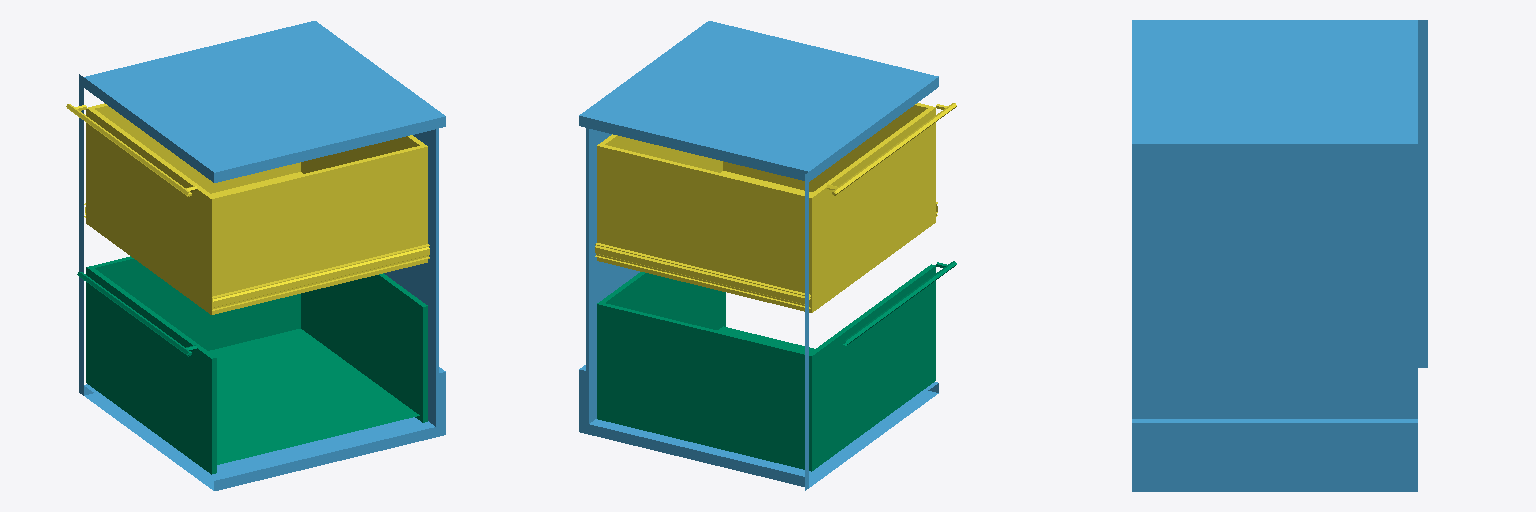
URDF robot description (partnet_9633dbd1bb8c11134c3aee8e9d3a6ffa):
<?xml version="1.0" ?>
<robot name="partnet_9633dbd1bb8c11134c3aee8e9d3a6ffa">
	<link name="base"/>
	<link name="link_0">
		<visual name="vertical_side_panel-23">
			<origin xyz="0 0 0"/>
			<geometry>
				<mesh filename="textured_objs/original-7.obj"/>
			</geometry>
		</visual>
		<visual name="vertical_side_panel-23">
			<origin xyz="0 0 0"/>
			<geometry>
				<mesh filename="textured_objs/original-6.obj"/>
			</geometry>
		</visual>
		<visual name="vertical_side_panel-24">
			<origin xyz="0 0 0"/>
			<geometry>
				<mesh filename="textured_objs/original-4.obj"/>
			</geometry>
		</visual>
		<visual name="vertical_side_panel-24">
			<origin xyz="0 0 0"/>
			<geometry>
				<mesh filename="textured_objs/original-3.obj"/>
			</geometry>
		</visual>
		<visual name="back_panel-25">
			<origin xyz="0 0 0"/>
			<geometry>
				<mesh filename="textured_objs/original-15.obj"/>
			</geometry>
		</visual>
		<visual name="bottom_panel-26">
			<origin xyz="0 0 0"/>
			<geometry>
				<mesh filename="textured_objs/original-10.obj"/>
			</geometry>
		</visual>
		<visual name="bottom_panel-26">
			<origin xyz="0 0 0"/>
			<geometry>
				<mesh filename="textured_objs/original-9.obj"/>
			</geometry>
		</visual>
		<visual name="top_panel-27">
			<origin xyz="0 0 0"/>
			<geometry>
				<mesh filename="textured_objs/original-13.obj"/>
			</geometry>
		</visual>
		<visual name="top_panel-27">
			<origin xyz="0 0 0"/>
			<geometry>
				<mesh filename="textured_objs/original-12.obj"/>
			</geometry>
		</visual>
		<visual name="frame_horizontal_bar-28">
			<origin xyz="0 0 0"/>
			<geometry>
				<mesh filename="textured_objs/original-16.obj"/>
			</geometry>
		</visual>
		<visual name="frame_horizontal_bar-29">
			<origin xyz="0 0 0"/>
			<geometry>
				<mesh filename="textured_objs/original-14.obj"/>
			</geometry>
		</visual>
		<collision>
			<origin xyz="0 0 0"/>
			<geometry>
				<mesh filename="textured_objs/original-7.obj"/>
			</geometry>
		</collision>
		<collision>
			<origin xyz="0 0 0"/>
			<geometry>
				<mesh filename="textured_objs/original-6.obj"/>
			</geometry>
		</collision>
		<collision>
			<origin xyz="0 0 0"/>
			<geometry>
				<mesh filename="textured_objs/original-4.obj"/>
			</geometry>
		</collision>
		<collision>
			<origin xyz="0 0 0"/>
			<geometry>
				<mesh filename="textured_objs/original-3.obj"/>
			</geometry>
		</collision>
		<collision>
			<origin xyz="0 0 0"/>
			<geometry>
				<mesh filename="textured_objs/original-15.obj"/>
			</geometry>
		</collision>
		<collision>
			<origin xyz="0 0 0"/>
			<geometry>
				<mesh filename="textured_objs/original-10.obj"/>
			</geometry>
		</collision>
		<collision>
			<origin xyz="0 0 0"/>
			<geometry>
				<mesh filename="textured_objs/original-9.obj"/>
			</geometry>
		</collision>
		<collision>
			<origin xyz="0 0 0"/>
			<geometry>
				<mesh filename="textured_objs/original-13.obj"/>
			</geometry>
		</collision>
		<collision>
			<origin xyz="0 0 0"/>
			<geometry>
				<mesh filename="textured_objs/original-12.obj"/>
			</geometry>
		</collision>
		<collision>
			<origin xyz="0 0 0"/>
			<geometry>
				<mesh filename="textured_objs/original-16.obj"/>
			</geometry>
		</collision>
		<collision>
			<origin xyz="0 0 0"/>
			<geometry>
				<mesh filename="textured_objs/original-14.obj"/>
			</geometry>
		</collision>
	</link>
	<joint name="joint_0" type="fixed">
		<origin rpy="1.570796326794897 0 -1.570796326794897" xyz="0 0 0"/>
		<child link="link_0"/>
		<parent link="base"/>
	</joint>
	<link name="link_1">
		<visual name="drawer_front-14">
			<origin xyz="0 0 0"/>
			<geometry>
				<mesh filename="textured_objs/original-18.obj"/>
			</geometry>
		</visual>
		<visual name="drawer_front-14">
			<origin xyz="0 0 0"/>
			<geometry>
				<mesh filename="textured_objs/original-25.obj"/>
			</geometry>
		</visual>
		<visual name="drawer_side-15">
			<origin xyz="0 0 0"/>
			<geometry>
				<mesh filename="textured_objs/original-23.obj"/>
			</geometry>
		</visual>
		<visual name="drawer_side-16">
			<origin xyz="0 0 0"/>
			<geometry>
				<mesh filename="textured_objs/original-24.obj"/>
			</geometry>
		</visual>
		<visual name="drawer_back-17">
			<origin xyz="0 0 0"/>
			<geometry>
				<mesh filename="textured_objs/original-26.obj"/>
			</geometry>
		</visual>
		<visual name="drawer_bottom-18">
			<origin xyz="0 0 0"/>
			<geometry>
				<mesh filename="textured_objs/original-21.obj"/>
			</geometry>
		</visual>
		<visual name="drawer_bottom-18">
			<origin xyz="0 0 0"/>
			<geometry>
				<mesh filename="textured_objs/original-22.obj"/>
			</geometry>
		</visual>
		<visual name="handle-13">
			<origin xyz="0 0 0"/>
			<geometry>
				<mesh filename="textured_objs/original-30.obj"/>
			</geometry>
		</visual>
		<visual name="handle-13">
			<origin xyz="0 0 0"/>
			<geometry>
				<mesh filename="textured_objs/original-31.obj"/>
			</geometry>
		</visual>
		<visual name="handle-13">
			<origin xyz="0 0 0"/>
			<geometry>
				<mesh filename="textured_objs/original-32.obj"/>
			</geometry>
		</visual>
		<visual name="drawer_rails-19">
			<origin xyz="0 0 0"/>
			<geometry>
				<mesh filename="textured_objs/original-27.obj"/>
			</geometry>
		</visual>
		<visual name="drawer_rails-20">
			<origin xyz="0 0 0"/>
			<geometry>
				<mesh filename="textured_objs/original-28.obj"/>
			</geometry>
		</visual>
		<collision>
			<origin xyz="0 0 0"/>
			<geometry>
				<mesh filename="textured_objs/original-18.obj"/>
			</geometry>
		</collision>
		<collision>
			<origin xyz="0 0 0"/>
			<geometry>
				<mesh filename="textured_objs/original-25.obj"/>
			</geometry>
		</collision>
		<collision>
			<origin xyz="0 0 0"/>
			<geometry>
				<mesh filename="textured_objs/original-23.obj"/>
			</geometry>
		</collision>
		<collision>
			<origin xyz="0 0 0"/>
			<geometry>
				<mesh filename="textured_objs/original-24.obj"/>
			</geometry>
		</collision>
		<collision>
			<origin xyz="0 0 0"/>
			<geometry>
				<mesh filename="textured_objs/original-26.obj"/>
			</geometry>
		</collision>
		<collision>
			<origin xyz="0 0 0"/>
			<geometry>
				<mesh filename="textured_objs/original-21.obj"/>
			</geometry>
		</collision>
		<collision>
			<origin xyz="0 0 0"/>
			<geometry>
				<mesh filename="textured_objs/original-22.obj"/>
			</geometry>
		</collision>
		<collision>
			<origin xyz="0 0 0"/>
			<geometry>
				<mesh filename="textured_objs/original-30.obj"/>
			</geometry>
		</collision>
		<collision>
			<origin xyz="0 0 0"/>
			<geometry>
				<mesh filename="textured_objs/original-31.obj"/>
			</geometry>
		</collision>
		<collision>
			<origin xyz="0 0 0"/>
			<geometry>
				<mesh filename="textured_objs/original-32.obj"/>
			</geometry>
		</collision>
		<collision>
			<origin xyz="0 0 0"/>
			<geometry>
				<mesh filename="textured_objs/original-27.obj"/>
			</geometry>
		</collision>
		<collision>
			<origin xyz="0 0 0"/>
			<geometry>
				<mesh filename="textured_objs/original-28.obj"/>
			</geometry>
		</collision>
	</link>
	<joint name="joint_1" type="prismatic">
		<origin xyz="0 0 0"/>
		<axis xyz="0 0 1"/>
		<child link="link_1"/>
		<parent link="link_0"/>
		<limit lower="0" upper="0.88"/>
	</joint>
	<link name="link_2">
		<visual name="drawer_front-7">
			<origin xyz="0 0 0"/>
			<geometry>
				<mesh filename="textured_objs/original-41.obj"/>
			</geometry>
		</visual>
		<visual name="drawer_front-7">
			<origin xyz="0 0 0"/>
			<geometry>
				<mesh filename="textured_objs/original-34.obj"/>
			</geometry>
		</visual>
		<visual name="drawer_side-8">
			<origin xyz="0 0 0"/>
			<geometry>
				<mesh filename="textured_objs/original-39.obj"/>
			</geometry>
		</visual>
		<visual name="drawer_side-9">
			<origin xyz="0 0 0"/>
			<geometry>
				<mesh filename="textured_objs/original-40.obj"/>
			</geometry>
		</visual>
		<visual name="drawer_back-10">
			<origin xyz="0 0 0"/>
			<geometry>
				<mesh filename="textured_objs/original-42.obj"/>
			</geometry>
		</visual>
		<visual name="drawer_bottom-11">
			<origin xyz="0 0 0"/>
			<geometry>
				<mesh filename="textured_objs/original-38.obj"/>
			</geometry>
		</visual>
		<visual name="drawer_bottom-11">
			<origin xyz="0 0 0"/>
			<geometry>
				<mesh filename="textured_objs/original-37.obj"/>
			</geometry>
		</visual>
		<visual name="handle-6">
			<origin xyz="0 0 0"/>
			<geometry>
				<mesh filename="textured_objs/original-46.obj"/>
			</geometry>
		</visual>
		<visual name="handle-6">
			<origin xyz="0 0 0"/>
			<geometry>
				<mesh filename="textured_objs/original-47.obj"/>
			</geometry>
		</visual>
		<visual name="handle-6">
			<origin xyz="0 0 0"/>
			<geometry>
				<mesh filename="textured_objs/original-48.obj"/>
			</geometry>
		</visual>
		<visual name="drawer_rails-21">
			<origin xyz="0 0 0"/>
			<geometry>
				<mesh filename="textured_objs/original-43.obj"/>
			</geometry>
		</visual>
		<visual name="drawer_rails-22">
			<origin xyz="0 0 0"/>
			<geometry>
				<mesh filename="textured_objs/original-44.obj"/>
			</geometry>
		</visual>
		<collision>
			<origin xyz="0 0 0"/>
			<geometry>
				<mesh filename="textured_objs/original-41.obj"/>
			</geometry>
		</collision>
		<collision>
			<origin xyz="0 0 0"/>
			<geometry>
				<mesh filename="textured_objs/original-34.obj"/>
			</geometry>
		</collision>
		<collision>
			<origin xyz="0 0 0"/>
			<geometry>
				<mesh filename="textured_objs/original-39.obj"/>
			</geometry>
		</collision>
		<collision>
			<origin xyz="0 0 0"/>
			<geometry>
				<mesh filename="textured_objs/original-40.obj"/>
			</geometry>
		</collision>
		<collision>
			<origin xyz="0 0 0"/>
			<geometry>
				<mesh filename="textured_objs/original-42.obj"/>
			</geometry>
		</collision>
		<collision>
			<origin xyz="0 0 0"/>
			<geometry>
				<mesh filename="textured_objs/original-38.obj"/>
			</geometry>
		</collision>
		<collision>
			<origin xyz="0 0 0"/>
			<geometry>
				<mesh filename="textured_objs/original-37.obj"/>
			</geometry>
		</collision>
		<collision>
			<origin xyz="0 0 0"/>
			<geometry>
				<mesh filename="textured_objs/original-46.obj"/>
			</geometry>
		</collision>
		<collision>
			<origin xyz="0 0 0"/>
			<geometry>
				<mesh filename="textured_objs/original-47.obj"/>
			</geometry>
		</collision>
		<collision>
			<origin xyz="0 0 0"/>
			<geometry>
				<mesh filename="textured_objs/original-48.obj"/>
			</geometry>
		</collision>
		<collision>
			<origin xyz="0 0 0"/>
			<geometry>
				<mesh filename="textured_objs/original-43.obj"/>
			</geometry>
		</collision>
		<collision>
			<origin xyz="0 0 0"/>
			<geometry>
				<mesh filename="textured_objs/original-44.obj"/>
			</geometry>
		</collision>
	</link>
	<joint name="joint_2" type="prismatic">
		<origin xyz="0 0 0"/>
		<axis xyz="0 0 1"/>
		<child link="link_2"/>
		<parent link="link_0"/>
		<limit lower="0" upper="0.88"/>
	</joint>
</robot>

--- What the picture shows (computed from the rendered views, not written in the file) ---
The picture shows the robot from 3 angles, left to right: view 1: azimuth 30°, elevation 25°; view 2: azimuth 150°, elevation 25°; view 3: azimuth 270°, elevation 25°; orthographic projection.
Model partnet_9633dbd1bb8c11134c3aee8e9d3a6ffa with 4 links and 3 joints (2 prismatic, 1 fixed), rooted at base, posed all joints at 0.
Links seen in each view (by area): view 1: link_1, link_0, link_2; view 2: link_1, link_0, link_2; view 3: link_0.
Link boxes in pixels (x1=…): link_1: x1=77, y1=256, x2=427, y2=474; link_0: x1=79, y1=21, x2=445, y2=490; link_2: x1=66, y1=103, x2=429, y2=314; link_1: x1=597, y1=261, x2=956, y2=471; link_0: x1=579, y1=21, x2=938, y2=490; link_2: x1=595, y1=103, x2=956, y2=312; link_0: x1=1132, y1=20, x2=1427, y2=491.
Bounding box of the posed robot: 1.16 × 1.07 × 1.39 m (x, y, z).
22 mesh visuals loaded from 35 distinct referenced files (22 OBJ); not drawn: 13 (reference not matched to a file when rendering).